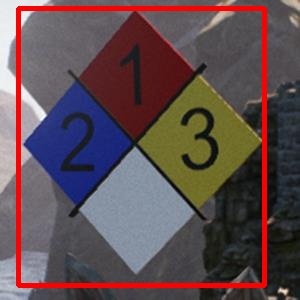nfpa: (18, 8, 264, 285)
